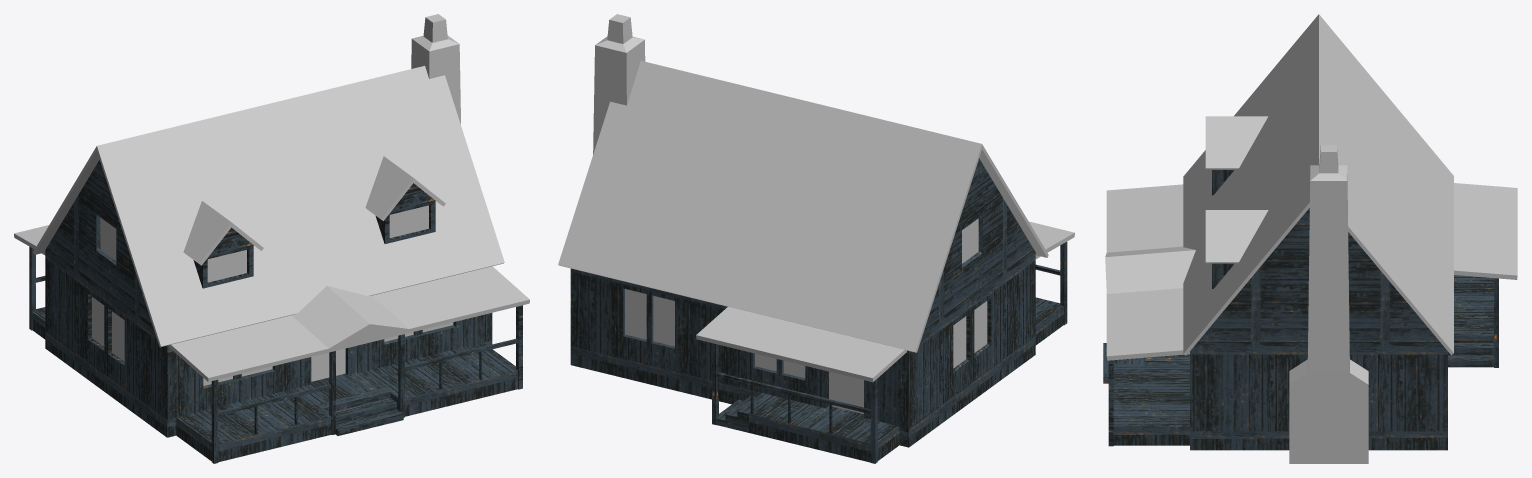
File: House_Mesh.fbx
3 renders of one model, left to right at view 1: azimuth 30°, elevation 25°; view 2: azimuth 150°, elevation 25°; view 3: azimuth 270°, elevation 25°, orthographic. The views are drawn at different scales.
Parts seen in each view (by area): view 1: House_Mesh; view 2: House_Mesh; view 3: House_Mesh.
Part boxes in pixels (x1,y1,x2,y2): House_Mesh: (14, 14, 529, 463); House_Mesh: (558, 14, 1074, 463); House_Mesh: (1103, 14, 1517, 463).
Size of the model in its own units: 1110 by 852 by 1044.
